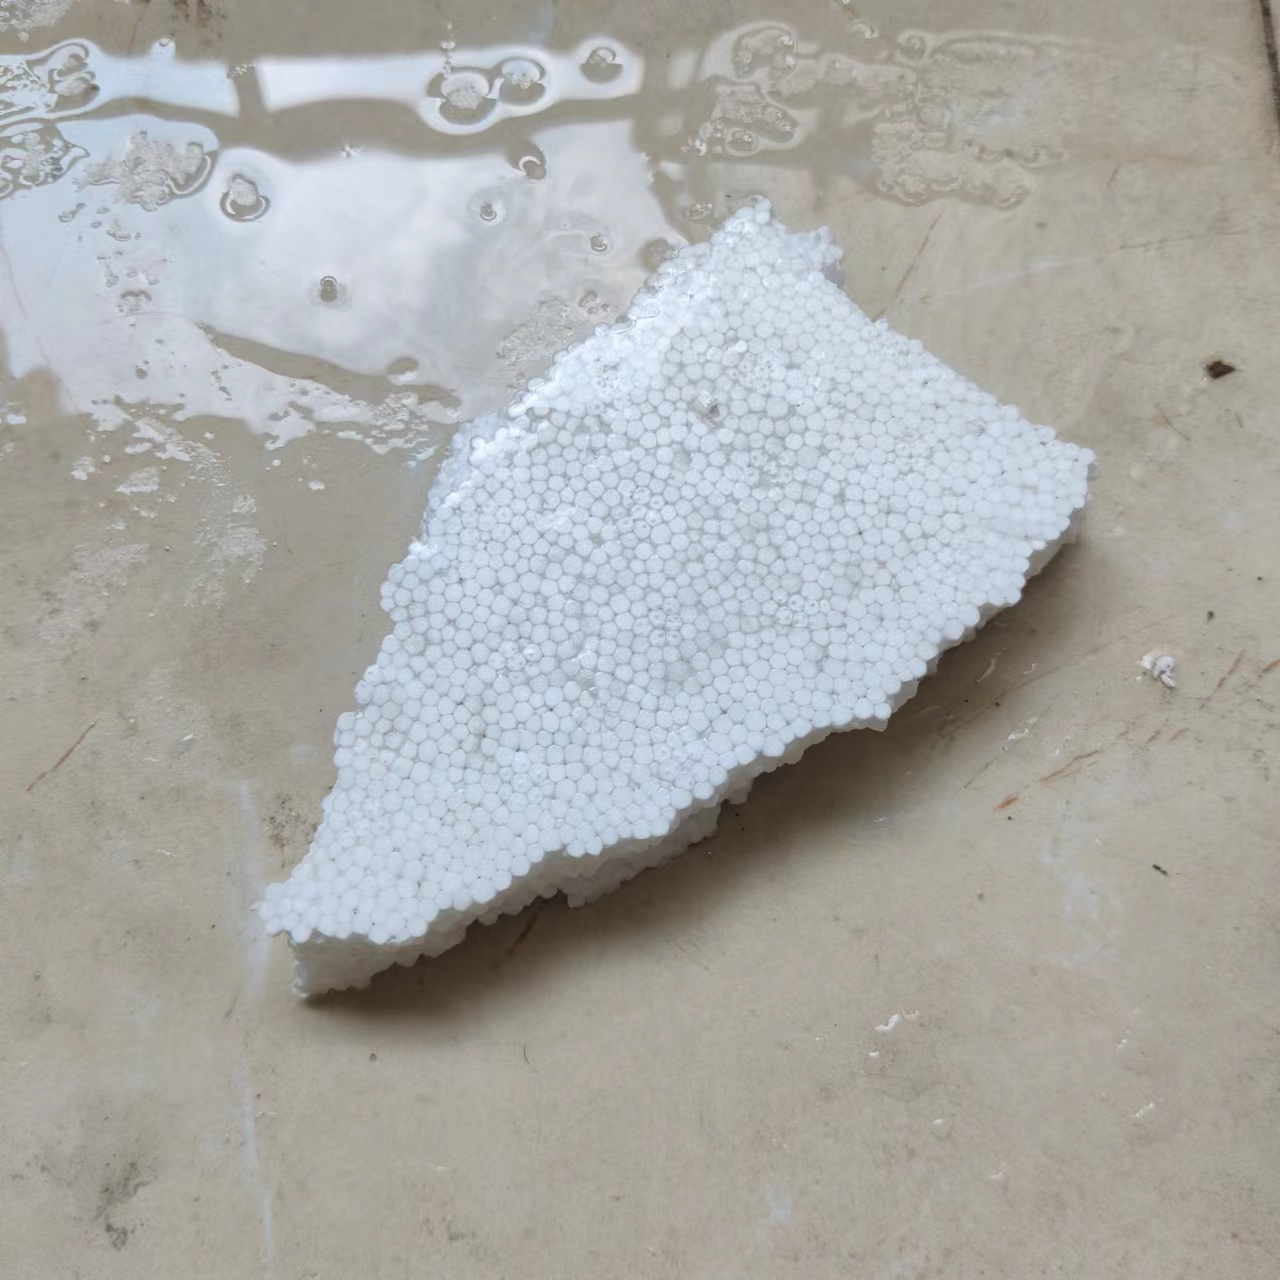5/可回收垃圾/泡沫: (253, 193, 1095, 1000)
